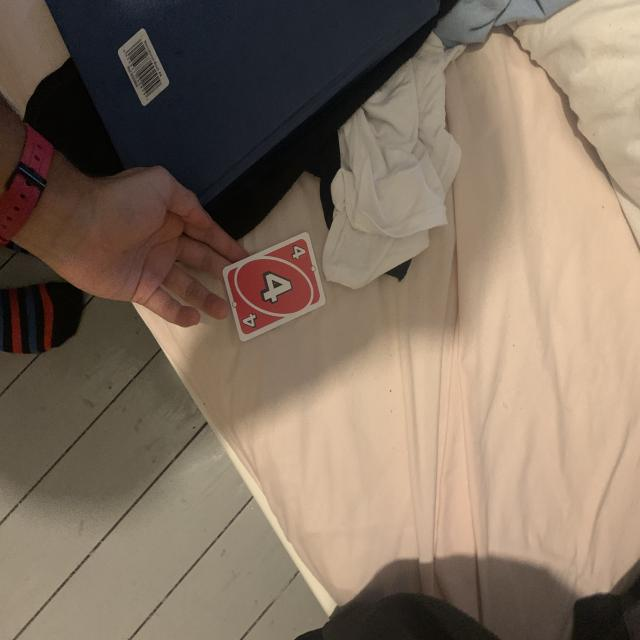lred-4: (287, 243, 309, 263)
